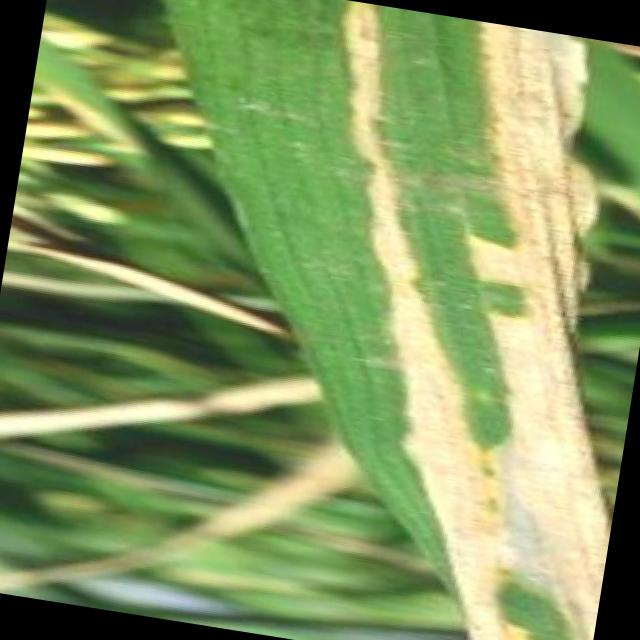Rice_Bacterial_Blight: (254, 0, 627, 563)
